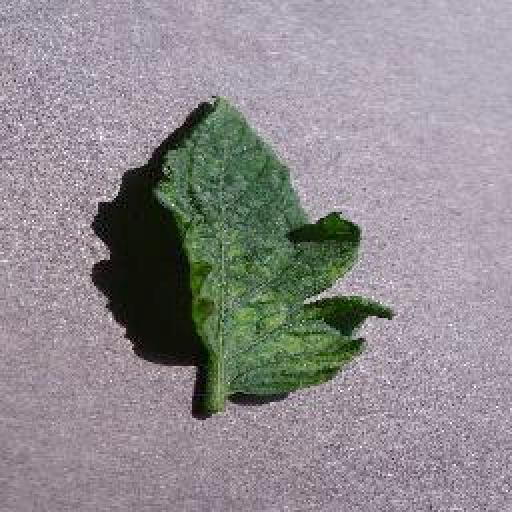Mosaic Virus: (156, 94, 398, 398)
